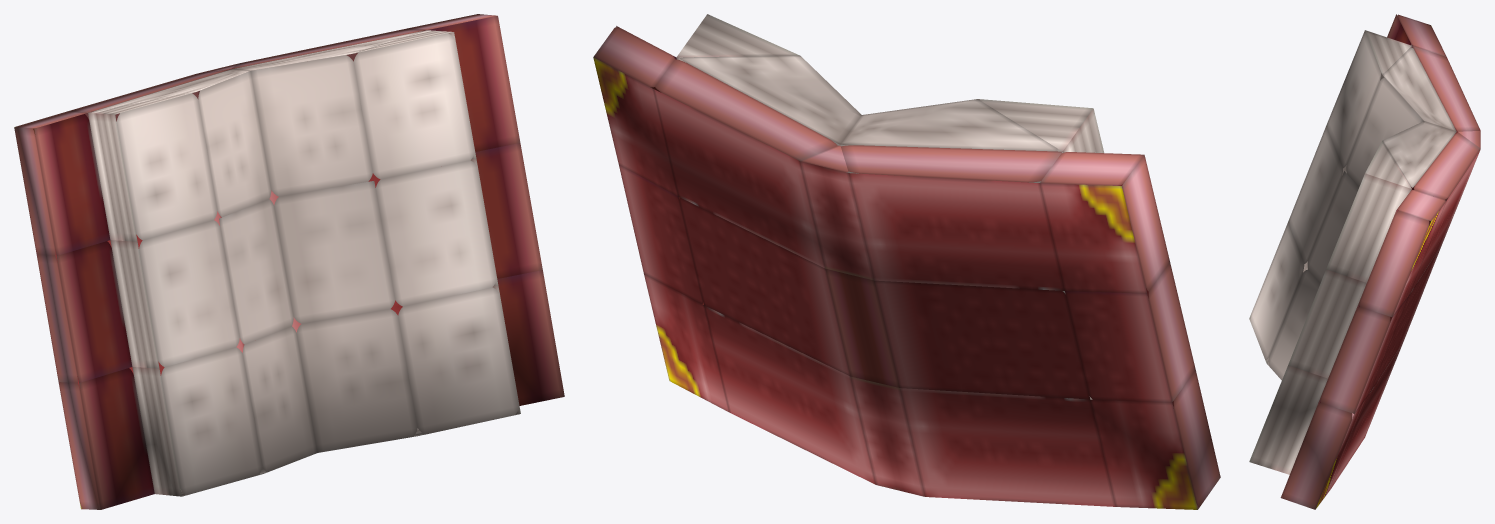
The picture shows the model from 3 angles, left to right: view 1: azimuth 30°, elevation 25°; view 2: azimuth 150°, elevation 25°; view 3: azimuth 270°, elevation 25°; orthographic projection. The views are drawn at different scales.
Parts seen in each view (by area): view 1: T1L6M001_6; view 2: T1L6M001_6; view 3: T1L6M001_6.
Part boxes in pixels (x1=…): T1L6M001_6: x1=14, y1=14, x2=564, y2=509; T1L6M001_6: x1=593, y1=14, x2=1220, y2=509; T1L6M001_6: x1=1249, y1=14, x2=1480, y2=509.
Bounding box in the file's own units: 0.5479 × 0.4258 × 0.2734.
